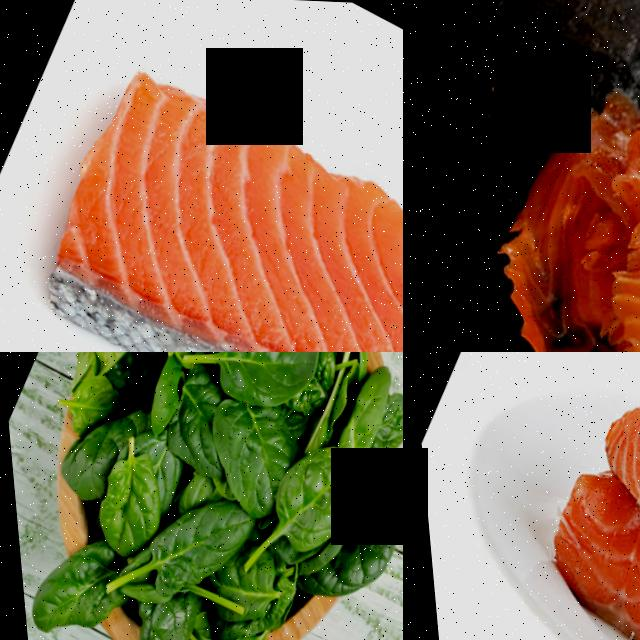salmon: (0, 26, 403, 352), (509, 462, 640, 640), (572, 352, 640, 640)
spinach: (252, 425, 373, 560), (125, 477, 244, 610), (302, 471, 403, 617), (11, 531, 113, 640), (204, 406, 301, 516), (198, 352, 335, 424), (41, 407, 128, 510), (76, 470, 165, 563), (151, 370, 227, 467), (362, 384, 403, 459), (193, 621, 273, 640)
